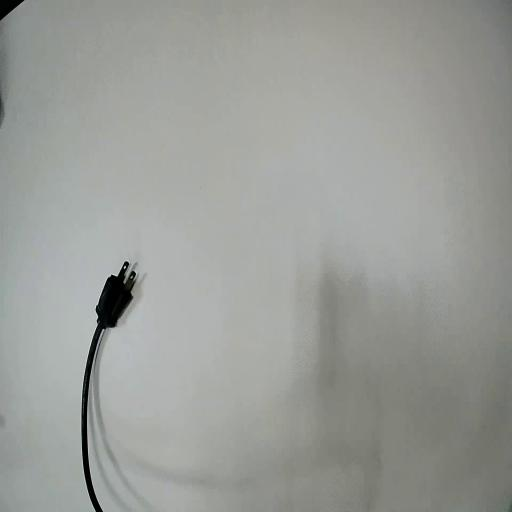wire: (82, 268, 134, 511)
